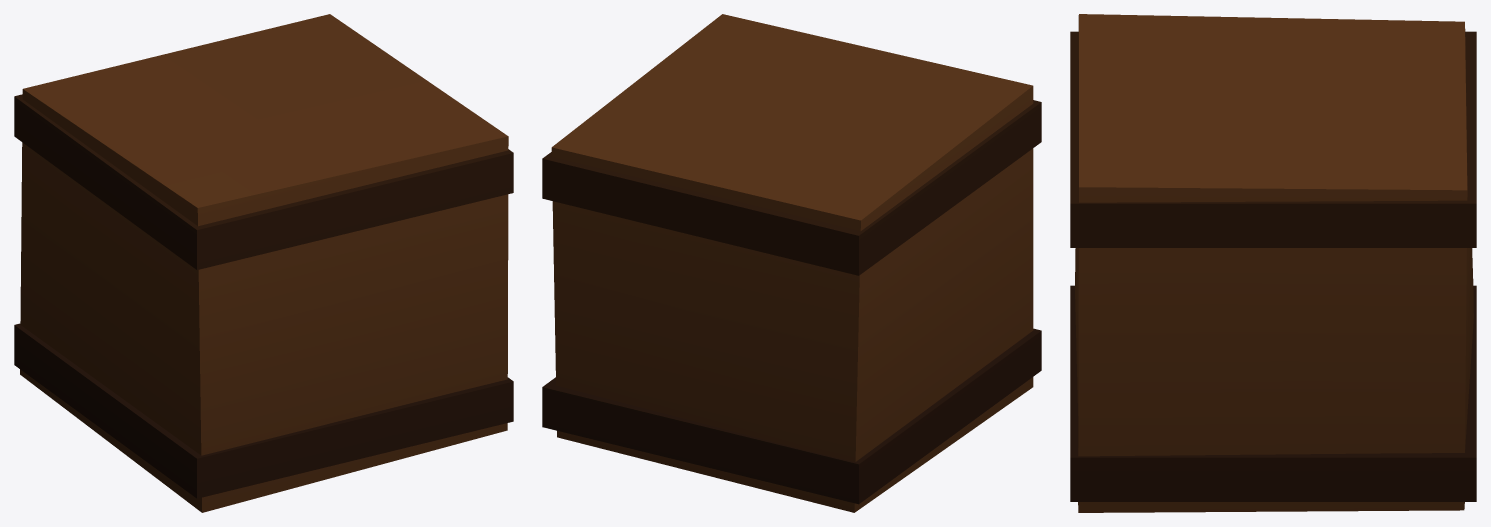
Rendered from crate.glb.
The picture shows the model from 3 angles, left to right: view 1: azimuth 30°, elevation 25°; view 2: azimuth 150°, elevation 25°; view 3: azimuth 270°, elevation 25°; orthographic projection. The views are drawn at different scales.
Visible parts, largest first — view 1: crate; view 2: crate; view 3: crate.
Boxes of the visible parts, box(x1,y1,x2,y2) form: crate: box(14, 14, 513, 512); crate: box(542, 14, 1041, 512); crate: box(1070, 14, 1476, 512).
Size of the model in its own units: 0.29 by 0.2659 by 0.29.
